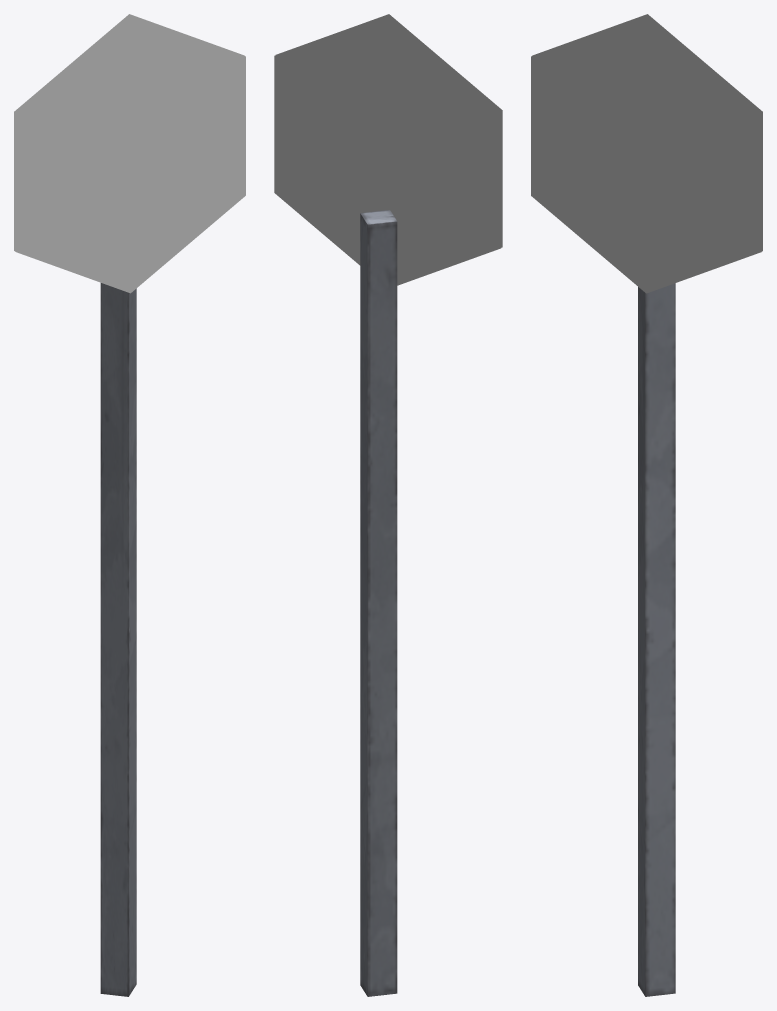
Rendered from sign1.fbx.
3 views of the same model, side by side, from view 1: azimuth 30°, elevation 25°; view 2: azimuth 150°, elevation 25°; view 3: azimuth 330°, elevation 25° (orthographic).
Parts seen in each view (by area): view 1: 1.054, 1.065; view 2: 1.054, 1.065; view 3: 1.054, 1.065.
Boxes of the visible parts, x1=… form: 1.054: x1=14, y1=14, x2=245, y2=293; 1.065: x1=100, y1=283, x2=136, y2=996; 1.054: x1=274, y1=14, x2=502, y2=285; 1.065: x1=360, y1=210, x2=397, y2=996; 1.054: x1=531, y1=14, x2=762, y2=293; 1.065: x1=638, y1=283, x2=675, y2=996.
Bounding box in the file's own units: 54.17 × 221 × 8.9.
